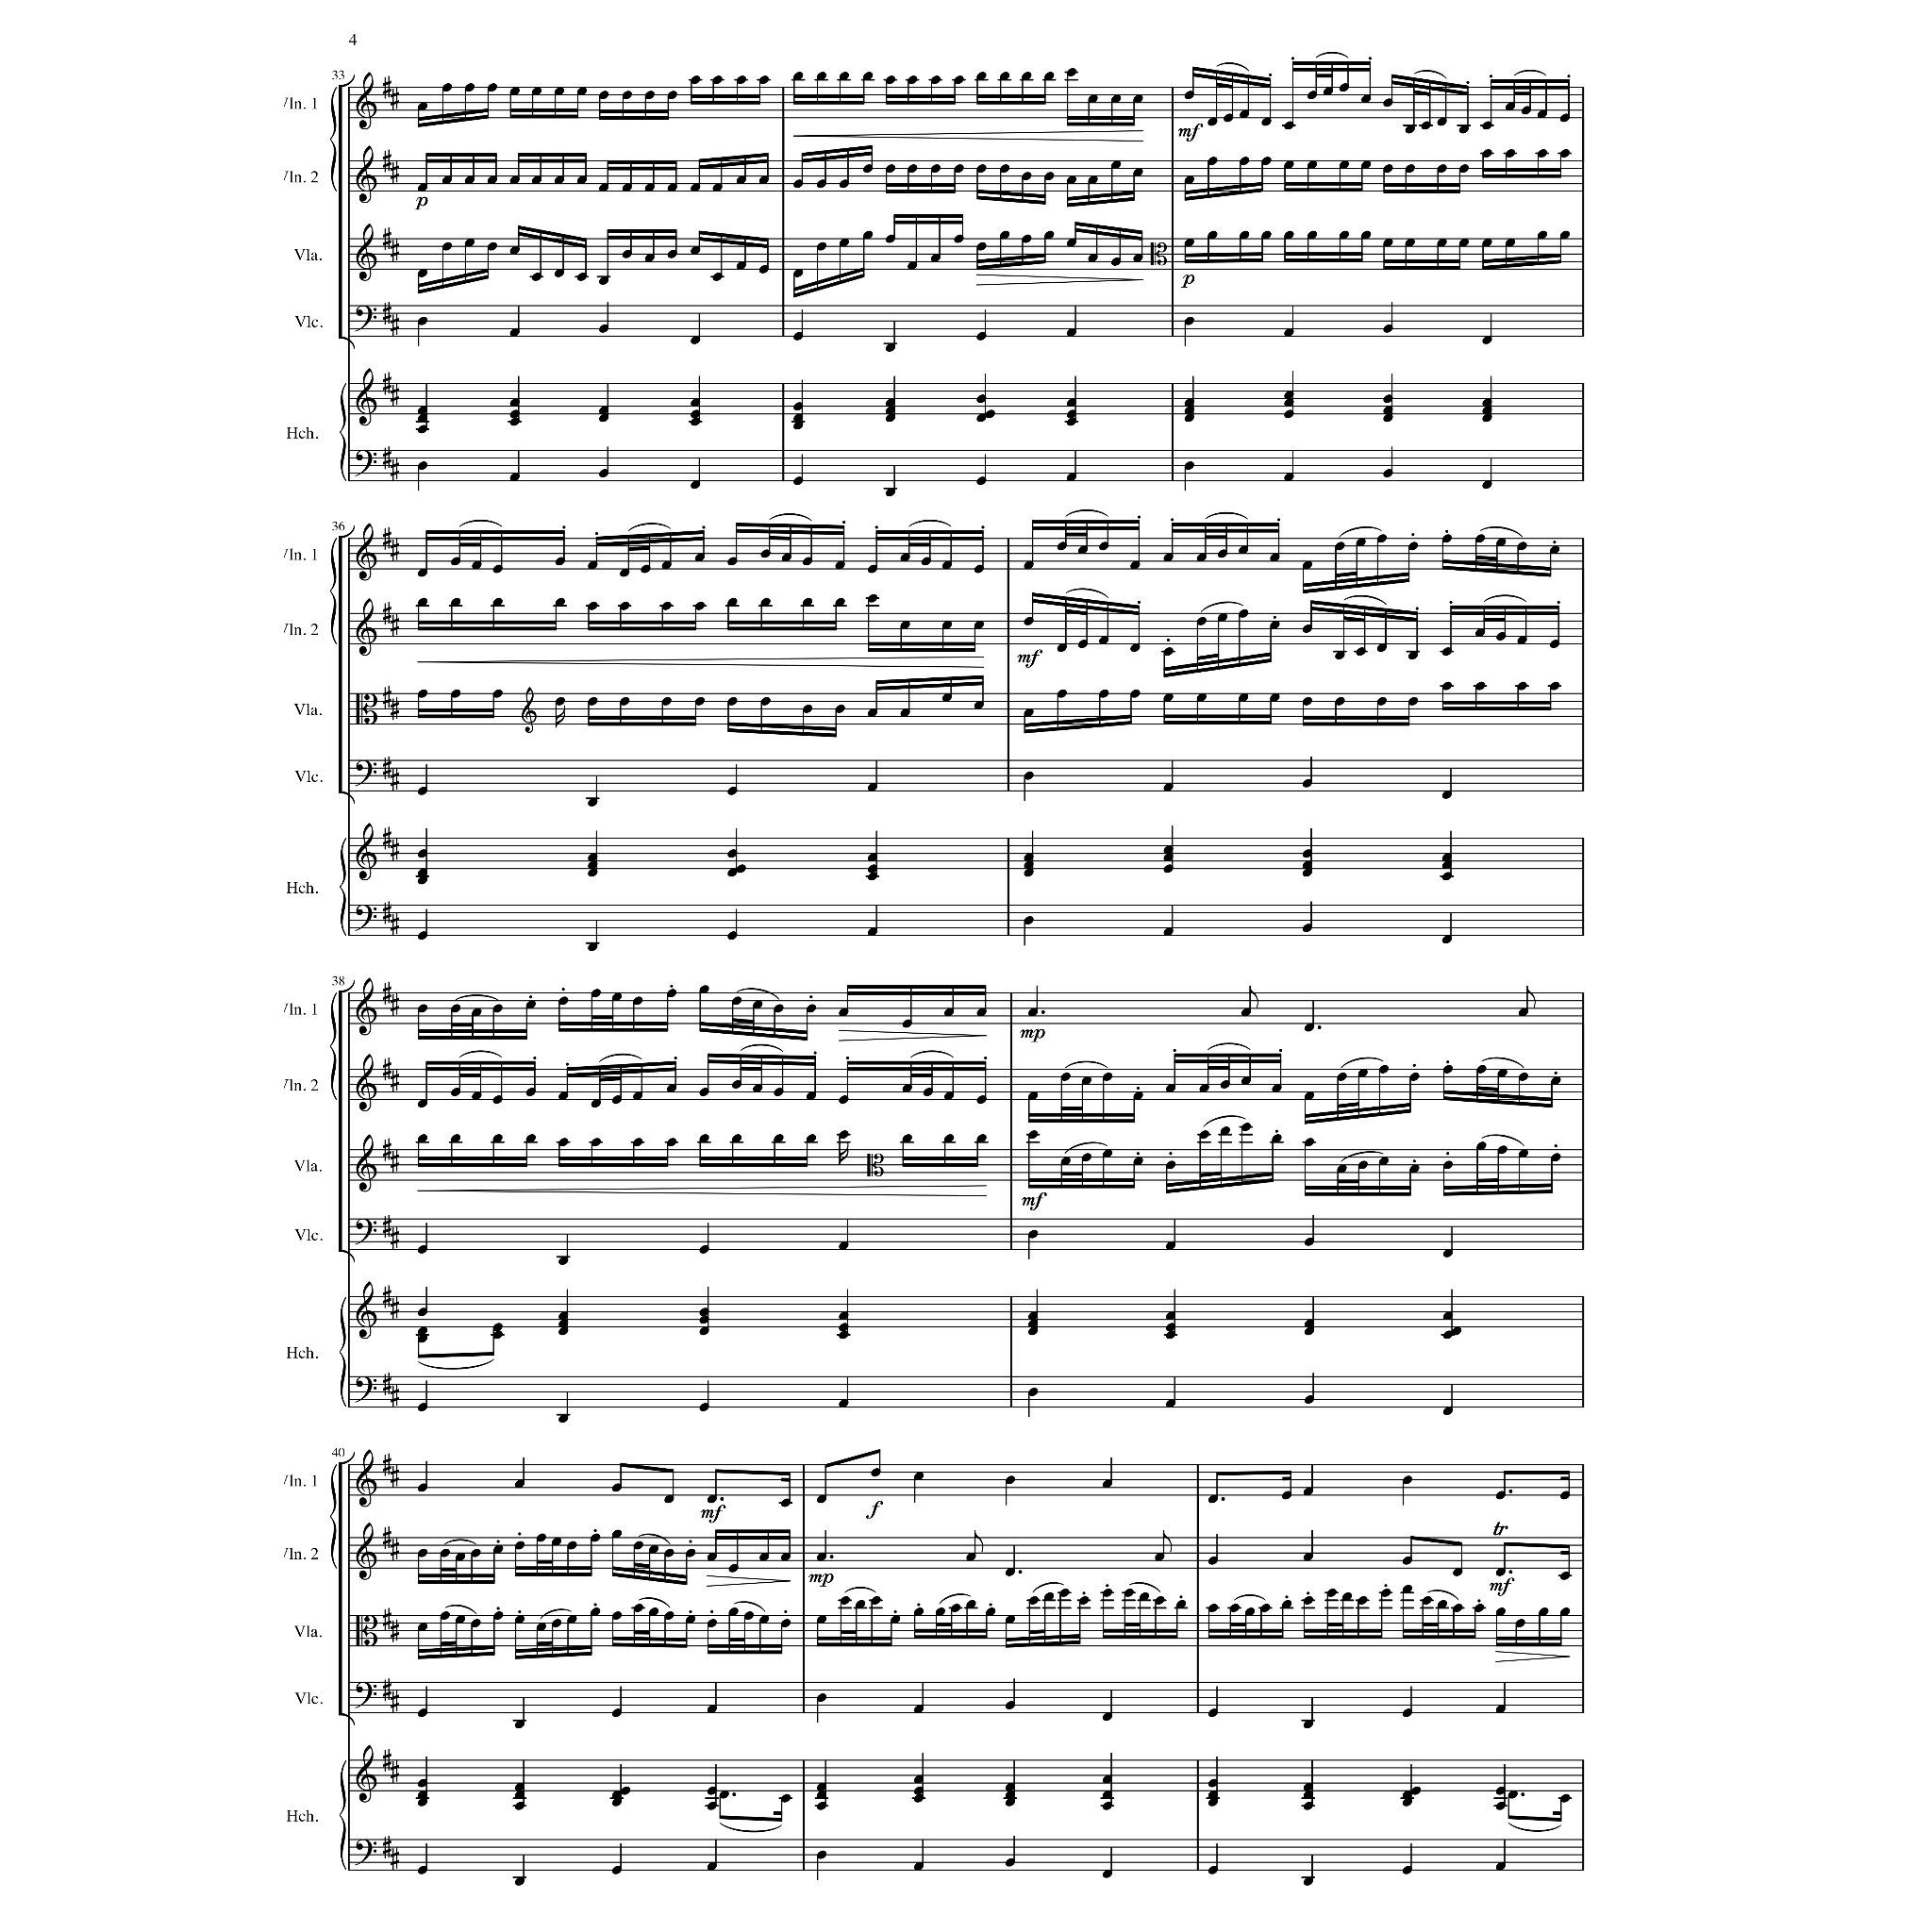brace: (339, 1296, 346, 1407), (339, 1760, 346, 1870), (329, 538, 337, 645), (329, 992, 337, 1100), (329, 87, 337, 192), (329, 1464, 337, 1570), (339, 383, 346, 481), (339, 838, 346, 936)
fClef: (354, 450, 376, 476), (354, 306, 376, 332), (354, 905, 376, 931), (354, 760, 376, 787), (354, 1219, 376, 1245), (354, 1376, 376, 1403), (354, 1840, 376, 1866), (354, 1682, 376, 1708)
flag16thDown: (556, 705, 565, 727), (839, 1142, 848, 1165)
flag8thUp: (1249, 986, 1258, 1008), (1526, 986, 1536, 1008), (1164, 1530, 1172, 1553), (975, 1530, 983, 1553)
gClef: (356, 368, 376, 426), (356, 223, 376, 281), (356, 145, 376, 204), (356, 72, 376, 130), (356, 823, 376, 881), (356, 523, 376, 581), (356, 598, 376, 657), (356, 1134, 376, 1192), (356, 1281, 376, 1340), (356, 977, 376, 1036), (356, 1054, 376, 1112), (356, 1744, 376, 1803), (356, 1522, 376, 1580), (356, 1449, 376, 1507)
noteheadBlack: (1183, 413, 1194, 423), (1183, 398, 1194, 408), (1183, 406, 1194, 415), (1283, 391, 1294, 400), (1283, 398, 1294, 408), (1283, 409, 1294, 419), (1283, 230, 1294, 240), (1283, 160, 1294, 170), (1283, 121, 1294, 130), (1223, 113, 1234, 123), (1260, 230, 1272, 240), (1260, 157, 1272, 166), (1260, 117, 1272, 126), (1043, 230, 1055, 240), (1043, 172, 1055, 181), (1043, 72, 1055, 81), (1066, 238, 1077, 247), (1066, 398, 1077, 408), (1066, 409, 1077, 419), (1066, 417, 1077, 426), (1066, 175, 1077, 185), (1066, 68, 1077, 77), (1021, 234, 1032, 243), (1021, 172, 1032, 181), (1021, 72, 1032, 81), (1183, 238, 1194, 247), (1183, 175, 1194, 185), (1183, 91, 1194, 100), (1087, 253, 1098, 262), (1087, 175, 1098, 185), (1087, 94, 1098, 104), (1521, 106, 1532, 115), (1481, 398, 1492, 408), (1481, 406, 1492, 415), (1481, 413, 1492, 423), (1481, 336, 1492, 345), (1481, 238, 1492, 247), (1360, 230, 1372, 240), (1360, 160, 1372, 170), (1360, 94, 1372, 104), (1323, 87, 1334, 96), (1458, 125, 1470, 134), (1458, 164, 1470, 174), (1481, 149, 1492, 158), (1481, 121, 1492, 130), (1458, 238, 1470, 247), (1421, 121, 1432, 130), (575, 175, 587, 185), (575, 87, 587, 96), (530, 175, 541, 185), (530, 87, 541, 96), (553, 175, 564, 185), (553, 87, 564, 96), (666, 249, 677, 258), (666, 183, 677, 192), (666, 91, 677, 100), (643, 253, 655, 262), (621, 91, 632, 100), (643, 183, 655, 192), (643, 91, 655, 100), (621, 249, 632, 258), (621, 183, 632, 192), (885, 413, 896, 423), (885, 343, 896, 353), (885, 234, 896, 243), (885, 164, 896, 174), (885, 75, 896, 85), (885, 406, 896, 415), (862, 230, 874, 240), (885, 398, 896, 408), (838, 72, 849, 81), (815, 241, 826, 251), (815, 179, 826, 189), (815, 72, 826, 81), (862, 164, 874, 174), (862, 72, 874, 81), (838, 238, 849, 247), (838, 179, 849, 189), (953, 234, 964, 243), (953, 164, 964, 174), (953, 75, 964, 85), (975, 394, 987, 404), (975, 413, 987, 423), (975, 241, 987, 251), (975, 164, 987, 174), (975, 72, 987, 81), (792, 72, 804, 81), (711, 183, 723, 192), (711, 75, 723, 85), (792, 179, 804, 189), (792, 421, 804, 430), (792, 413, 804, 423), (792, 402, 804, 411), (1217, 549, 1228, 558), (1217, 612, 1228, 622), (1238, 545, 1249, 555), (1238, 692, 1249, 702), (1302, 560, 1313, 570), (1302, 625, 1313, 634), (1302, 696, 1313, 706), (1302, 868, 1313, 877), (1302, 860, 1313, 870), (1302, 849, 1313, 858), (1302, 924, 1313, 933), (1162, 864, 1174, 874), (1077, 545, 1089, 555), (1162, 553, 1174, 562), (1162, 647, 1174, 657), (1162, 692, 1174, 702), (1162, 782, 1174, 791), (1162, 853, 1174, 862), (1162, 845, 1174, 855), (1077, 640, 1089, 649), (1098, 541, 1109, 551), (1098, 636, 1109, 645), (1098, 689, 1109, 698), (1549, 545, 1560, 555), (1549, 640, 1560, 649), (1549, 681, 1560, 691), (1407, 541, 1419, 551), (1334, 541, 1345, 551), (1334, 651, 1345, 660), (1334, 696, 1345, 706), (1407, 651, 1419, 660), (1355, 538, 1366, 547), (1355, 647, 1366, 657), (1407, 696, 1419, 706), (1441, 534, 1453, 543), (1441, 647, 1453, 657), (1441, 681, 1453, 691), (1441, 872, 1453, 881), (1441, 860, 1453, 870), (1441, 853, 1453, 862), (587, 560, 598, 570), (587, 696, 598, 706), (587, 798, 598, 808), (587, 868, 598, 877), (587, 860, 598, 870), (587, 853, 598, 862), (587, 942, 598, 952), (660, 560, 672, 570), (660, 696, 672, 706), (619, 568, 630, 577), (619, 696, 630, 706), (640, 564, 651, 574), (941, 560, 953, 570), (941, 621, 953, 630), (1023, 560, 1034, 570), (1023, 617, 1034, 626), (1023, 868, 1034, 877), (1023, 860, 1034, 870), (1023, 853, 1034, 862), (941, 692, 953, 702), (974, 564, 985, 574), (974, 621, 985, 630), (974, 700, 985, 709), (726, 557, 738, 566), (726, 696, 738, 706), (726, 787, 738, 796), (726, 868, 738, 877), (726, 849, 738, 858), (834, 705, 845, 714), (834, 560, 845, 570), (1132, 1157, 1143, 1166), (1132, 1091, 1143, 1101), (1304, 1138, 1315, 1147), (1304, 1023, 1315, 1032), (1304, 1091, 1315, 1101), (1198, 1130, 1209, 1140), (1219, 1126, 1230, 1136), (975, 1008, 987, 1017), (975, 1134, 987, 1143), (1081, 1153, 1092, 1162), (1102, 1072, 1113, 1081), (1102, 1149, 1113, 1158), (1496, 1145, 1507, 1155), (1336, 1072, 1347, 1081), (1336, 1164, 1347, 1174), (1304, 1326, 1315, 1336), (1304, 1319, 1315, 1328), (1451, 1326, 1462, 1336), (1475, 1064, 1487, 1074), (1475, 1141, 1487, 1151), (525, 1000, 536, 1009), (525, 1134, 536, 1143), (611, 992, 623, 1002), (632, 996, 643, 1006), (632, 1091, 643, 1101), (449, 1004, 460, 1013), (449, 1134, 460, 1143), (838, 1008, 849, 1017), (838, 1130, 849, 1140), (838, 1330, 849, 1340), (838, 1323, 849, 1332), (838, 1311, 849, 1321), (632, 1138, 643, 1147), (943, 1008, 955, 1017), (943, 1091, 955, 1101), (943, 1134, 955, 1143), (698, 985, 709, 994), (698, 1134, 709, 1143), (698, 1245, 709, 1255), (698, 1326, 709, 1336), (698, 1315, 709, 1324), (698, 1307, 709, 1317), (698, 1403, 709, 1412), (1207, 1865, 1219, 1874), (1207, 1778, 1219, 1788), (1207, 1797, 1219, 1807), (1207, 1708, 1219, 1718), (1207, 1604, 1219, 1613), (1207, 1494, 1219, 1504), (1175, 1600, 1187, 1609), (1228, 1604, 1240, 1613), (985, 1607, 996, 1617), (934, 1607, 945, 1617), (1123, 1589, 1134, 1598), (1058, 1589, 1070, 1598), (1538, 1607, 1549, 1617), (1515, 1619, 1526, 1628), (1357, 1596, 1368, 1606), (1402, 1797, 1413, 1807), (1402, 1865, 1413, 1874), (1402, 1708, 1413, 1718), (1402, 1584, 1413, 1593), (1402, 1475, 1413, 1485), (1474, 1604, 1485, 1613), (1421, 1596, 1432, 1606), (566, 1615, 577, 1624), (566, 1541, 577, 1550), (513, 1877, 525, 1887), (513, 1615, 525, 1624), (513, 1541, 525, 1550), (632, 1604, 643, 1613), (632, 1541, 643, 1550), (647, 1607, 658, 1617), (513, 1479, 525, 1489), (470, 1619, 481, 1628), (492, 1611, 504, 1621), (870, 1596, 881, 1606), (870, 1468, 881, 1477), (913, 1607, 924, 1617), (913, 1472, 924, 1481), (855, 1600, 866, 1609), (706, 1619, 717, 1628), (706, 1494, 717, 1504), (685, 1615, 696, 1624), (758, 1615, 770, 1624), (1207, 230, 1217, 240), (1207, 157, 1217, 166), (1207, 117, 1217, 126), (1240, 230, 1249, 240), (1240, 157, 1249, 166), (1240, 109, 1249, 119), (1000, 230, 1009, 240), (1000, 164, 1009, 174), (1000, 72, 1009, 81), (1133, 253, 1142, 262), (1133, 168, 1142, 177), (1133, 94, 1142, 104), (1111, 257, 1121, 266), (1111, 160, 1121, 170), (1111, 94, 1121, 104), (1538, 230, 1547, 240), (1538, 149, 1547, 158), (1538, 109, 1547, 119), (1560, 230, 1570, 240), (1560, 149, 1570, 158), (1560, 113, 1570, 123), (1506, 238, 1515, 247), (1506, 149, 1515, 158), (1506, 102, 1515, 111), (1383, 394, 1392, 404), (1383, 406, 1392, 415), (1383, 413, 1392, 423), (1383, 324, 1392, 333), (1383, 238, 1392, 247), (1383, 164, 1392, 174), (1383, 98, 1392, 108), (1307, 230, 1317, 240), (1307, 160, 1317, 170), (1307, 91, 1317, 100), (1340, 230, 1349, 240), (1340, 160, 1349, 170), (1340, 83, 1349, 92), (1438, 238, 1447, 247), (1438, 164, 1447, 174), (1438, 117, 1447, 126), (1406, 238, 1415, 247), (1406, 164, 1415, 174), (1406, 125, 1415, 134), (598, 276, 608, 286), (598, 406, 608, 415), (598, 413, 608, 423), (598, 324, 608, 333), (598, 183, 608, 192), (598, 91, 608, 100), (691, 398, 700, 408), (691, 409, 700, 419), (691, 417, 700, 426), (691, 336, 700, 345), (691, 245, 700, 255), (691, 183, 700, 192), (691, 75, 700, 85), (417, 425, 426, 434), (417, 183, 426, 192), (417, 102, 426, 111), (417, 413, 426, 423), (417, 406, 426, 415), (487, 241, 496, 251), (487, 175, 496, 185), (487, 83, 496, 92), (509, 398, 519, 408), (509, 409, 519, 419), (509, 417, 519, 426), (509, 245, 519, 255), (509, 175, 519, 185), (509, 87, 519, 96), (441, 175, 451, 185), (441, 241, 451, 251), (441, 83, 451, 92), (464, 238, 474, 247), (464, 175, 474, 185), (464, 83, 474, 92), (985, 409, 994, 419), (908, 164, 917, 174), (908, 75, 917, 85), (930, 253, 940, 262), (930, 164, 940, 174), (930, 75, 940, 85), (736, 175, 745, 185), (736, 75, 745, 85), (758, 264, 768, 274), (758, 175, 768, 185), (758, 75, 768, 85), (1196, 692, 1206, 702), (1196, 553, 1206, 562), (1196, 617, 1206, 626), (1270, 553, 1279, 562), (1270, 621, 1279, 630), (1270, 692, 1279, 702), (1057, 541, 1066, 551), (1057, 643, 1066, 653), (1057, 689, 1066, 698), (1130, 643, 1140, 653), (1130, 689, 1140, 698), (1130, 560, 1140, 570), (1496, 538, 1506, 547), (1496, 632, 1506, 641), (1517, 541, 1526, 551), (1517, 636, 1526, 645), (1517, 681, 1526, 691), (1377, 534, 1387, 543), (1377, 643, 1387, 653), (1377, 696, 1387, 706), (1475, 534, 1485, 543), (1475, 628, 1485, 638), (1475, 681, 1485, 691), (555, 557, 564, 566), (555, 696, 564, 706), (694, 553, 704, 562), (694, 696, 704, 706), (417, 568, 426, 577), (417, 689, 426, 698), (417, 787, 426, 796), (417, 875, 426, 885), (417, 868, 426, 877), (417, 849, 426, 858), (472, 560, 481, 570), (451, 689, 460, 698), (492, 564, 502, 574), (492, 689, 502, 698), (451, 557, 460, 566), (900, 553, 909, 562), (900, 621, 909, 630), (921, 557, 930, 566), (868, 564, 877, 574), (868, 593, 877, 603), (868, 782, 877, 791), (868, 872, 877, 881), (868, 864, 877, 874), (868, 853, 877, 862), (760, 549, 770, 558), (760, 696, 770, 706), (781, 553, 791, 562), (736, 864, 745, 874), (802, 557, 811, 566), (802, 705, 811, 714), (1166, 1160, 1175, 1170), (1166, 1311, 1175, 1321), (1166, 1323, 1175, 1332), (1166, 1330, 1175, 1340), (1272, 1134, 1281, 1143), (1241, 1008, 1251, 1017), (1241, 1123, 1251, 1132), (1028, 1326, 1038, 1336), (1028, 1319, 1038, 1328), (1028, 1311, 1038, 1321), (1028, 1008, 1038, 1017), (1028, 1091, 1038, 1101), (1028, 1130, 1038, 1140), (1060, 1072, 1070, 1081), (1060, 1157, 1070, 1166), (1551, 1153, 1560, 1162), (1519, 1008, 1528, 1017), (1519, 1072, 1528, 1081), (1519, 1149, 1528, 1158), (1358, 1160, 1368, 1170), (1379, 1064, 1389, 1074), (1379, 1157, 1389, 1166), (1443, 1311, 1453, 1321), (1409, 1072, 1419, 1081), (1409, 1164, 1419, 1174), (1443, 1064, 1453, 1074), (1443, 1160, 1453, 1170), (1443, 1330, 1453, 1340), (558, 996, 568, 1006), (558, 1091, 568, 1101), (558, 1138, 568, 1147), (558, 1257, 568, 1266), (558, 1326, 568, 1336), (558, 1319, 568, 1328), (558, 1311, 568, 1321), (492, 1004, 502, 1013), (492, 1134, 502, 1143), (492, 1330, 502, 1340), (492, 1323, 502, 1332), (591, 1138, 600, 1147), (591, 989, 600, 998), (417, 1004, 426, 1013), (417, 1134, 426, 1143), (417, 1245, 426, 1255), (417, 1307, 426, 1317), (472, 1008, 481, 1017), (472, 1091, 481, 1101), (417, 1334, 426, 1343), (417, 1326, 426, 1336), (417, 1403, 426, 1412), (774, 1004, 783, 1013), (774, 1134, 783, 1143), (806, 1004, 815, 1013), (806, 1091, 815, 1101), (806, 1134, 815, 1143), (902, 1019, 911, 1028), (902, 1134, 911, 1143), (666, 989, 675, 998), (666, 1138, 675, 1147), (753, 1000, 762, 1009), (732, 996, 741, 1006), (732, 1134, 741, 1143), (1304, 1596, 1313, 1606), (1304, 1487, 1313, 1496), (1155, 1596, 1164, 1606), (1282, 1600, 1291, 1609), (1245, 1607, 1255, 1617), (1260, 1604, 1270, 1613), (1282, 1491, 1291, 1500), (1006, 1797, 1015, 1807), (1006, 1615, 1015, 1624), (1006, 1567, 1015, 1576), (1006, 1475, 1015, 1485), (951, 1604, 960, 1613), (966, 1600, 975, 1609), (1102, 1589, 1111, 1598), (1102, 1479, 1111, 1489), (1028, 1596, 1038, 1606), (1079, 1596, 1089, 1606), (1560, 1491, 1570, 1500), (1560, 1607, 1570, 1617), (1560, 1572, 1570, 1581), (1381, 1589, 1391, 1598), (1304, 1877, 1313, 1887), (1326, 1589, 1336, 1598), (1496, 1491, 1506, 1500), (1453, 1604, 1462, 1613), (1496, 1607, 1506, 1617), (1496, 1567, 1506, 1576), (1453, 1567, 1462, 1576), (1438, 1600, 1447, 1609), (551, 1619, 560, 1628), (536, 1623, 545, 1632), (611, 1611, 621, 1621), (611, 1483, 621, 1492), (611, 1708, 621, 1718), (591, 1607, 600, 1617), (611, 1865, 621, 1874), (611, 1797, 621, 1807), (417, 1865, 426, 1874), (417, 1778, 426, 1788), (417, 1797, 426, 1807), (417, 1708, 426, 1718), (417, 1623, 426, 1632), (417, 1483, 426, 1492), (455, 1615, 464, 1624), (440, 1611, 449, 1621), (781, 1619, 791, 1628), (781, 1498, 791, 1507), (817, 1615, 826, 1624), (817, 1494, 826, 1504), (891, 1615, 900, 1624), (840, 1596, 849, 1606), (664, 1611, 674, 1621), (664, 1494, 674, 1504), (743, 1611, 753, 1621), (728, 1607, 738, 1617), (1183, 462, 1194, 470), (1283, 474, 1294, 481), (1283, 328, 1294, 336), (1066, 474, 1077, 481), (1066, 328, 1077, 336), (1183, 317, 1194, 325), (1481, 481, 1492, 489), (575, 274, 587, 281), (530, 274, 541, 281), (553, 270, 564, 277), (885, 489, 896, 496), (975, 477, 987, 485), (975, 332, 987, 340), (711, 274, 723, 281), (792, 270, 804, 277), (792, 332, 804, 340), (792, 477, 804, 485), (1238, 609, 1249, 617), (1302, 779, 1313, 787), (1162, 928, 1174, 936), (1441, 791, 1453, 798), (1441, 936, 1453, 943), (587, 602, 598, 609), (660, 602, 672, 609), (619, 602, 630, 609), (1023, 709, 1034, 717), (1023, 772, 1034, 779), (1023, 917, 1034, 924), (726, 598, 738, 606), (726, 932, 738, 940), (834, 598, 845, 606), (1198, 1085, 1209, 1092), (1219, 1081, 1230, 1089), (975, 1096, 987, 1104), (1081, 1077, 1092, 1085), (1496, 1070, 1507, 1077), (1304, 1396, 1315, 1404), (1304, 1238, 1315, 1245), (525, 1089, 536, 1096), (611, 1096, 623, 1104), (449, 1089, 460, 1096), (838, 1241, 849, 1249), (838, 1096, 849, 1104), (838, 1400, 849, 1407), (923, 1089, 934, 1096), (698, 1089, 709, 1096), (1207, 1790, 1219, 1798), (1207, 1557, 1219, 1564), (1043, 1592, 1055, 1600), (1341, 1592, 1353, 1600), (1402, 1790, 1413, 1798), (1402, 1557, 1413, 1564), (1507, 1790, 1519, 1798), (513, 1783, 525, 1790), (513, 1790, 525, 1798), (513, 1802, 525, 1809), (513, 1721, 525, 1728), (647, 1545, 658, 1553), (470, 1549, 481, 1557), (492, 1545, 504, 1553), (913, 1775, 924, 1783), (913, 1862, 924, 1870), (913, 1787, 924, 1794), (913, 1794, 924, 1802), (913, 1706, 924, 1713), (706, 1787, 717, 1794), (706, 1862, 717, 1870), (706, 1802, 717, 1809), (706, 1706, 717, 1713), (706, 1553, 717, 1560), (685, 1549, 696, 1557), (758, 1553, 770, 1560), (1383, 470, 1392, 477), (598, 470, 608, 477), (691, 481, 700, 489), (417, 317, 426, 325), (417, 270, 426, 277), (417, 462, 426, 470), (509, 474, 519, 481), (509, 328, 519, 336), (908, 262, 917, 270), (736, 262, 745, 270), (555, 598, 564, 606), (694, 602, 704, 609), (417, 598, 426, 606), (492, 598, 502, 606), (417, 932, 426, 940), (451, 598, 460, 606), (900, 709, 909, 717), (868, 709, 877, 717), (868, 928, 877, 936), (760, 598, 770, 606), (802, 598, 811, 606), (1166, 1400, 1175, 1407), (1166, 1241, 1175, 1249), (1166, 1085, 1175, 1092), (1272, 1085, 1281, 1092), (1241, 1077, 1251, 1085), (1028, 1230, 1038, 1238), (1028, 1389, 1038, 1396), (1551, 1077, 1560, 1085), (1358, 1070, 1368, 1077), (1443, 1407, 1453, 1415), (1443, 1249, 1453, 1257), (492, 1096, 502, 1104), (558, 1415, 568, 1423), (591, 1100, 600, 1108), (417, 1100, 426, 1108), (774, 1089, 783, 1096), (902, 1085, 911, 1092), (666, 1085, 675, 1092), (753, 1085, 762, 1092), (732, 1081, 741, 1089), (1304, 1553, 1313, 1560), (1155, 1553, 1164, 1560), (1140, 1592, 1149, 1600), (1006, 1702, 1015, 1709), (1006, 1790, 1015, 1798), (1006, 1858, 1015, 1866), (1006, 1783, 1015, 1790), (966, 1553, 975, 1560), (1102, 1713, 1111, 1721), (1102, 1870, 1111, 1877), (1102, 1775, 1111, 1783), (1102, 1790, 1111, 1798), (1102, 1802, 1111, 1809), (1560, 1794, 1570, 1802), (1411, 1787, 1421, 1794), (1304, 1783, 1313, 1790), (1304, 1790, 1313, 1798), (1304, 1802, 1313, 1809), (1304, 1721, 1313, 1728), (1496, 1862, 1506, 1870), (1496, 1787, 1506, 1794), (1496, 1802, 1506, 1809), (1496, 1706, 1506, 1713), (551, 1538, 560, 1545), (536, 1534, 545, 1541), (611, 1530, 621, 1538), (591, 1534, 600, 1541), (621, 1787, 630, 1794), (611, 1790, 621, 1798), (417, 1790, 426, 1798), (417, 1549, 426, 1557), (455, 1553, 464, 1560), (440, 1549, 449, 1557), (817, 1851, 826, 1858), (817, 1783, 826, 1790), (817, 1790, 826, 1798), (817, 1802, 826, 1809), (781, 1794, 791, 1802), (781, 1553, 791, 1560), (817, 1694, 826, 1702), (817, 1553, 826, 1560), (719, 1790, 728, 1798), (664, 1549, 674, 1557), (728, 1564, 738, 1572)
